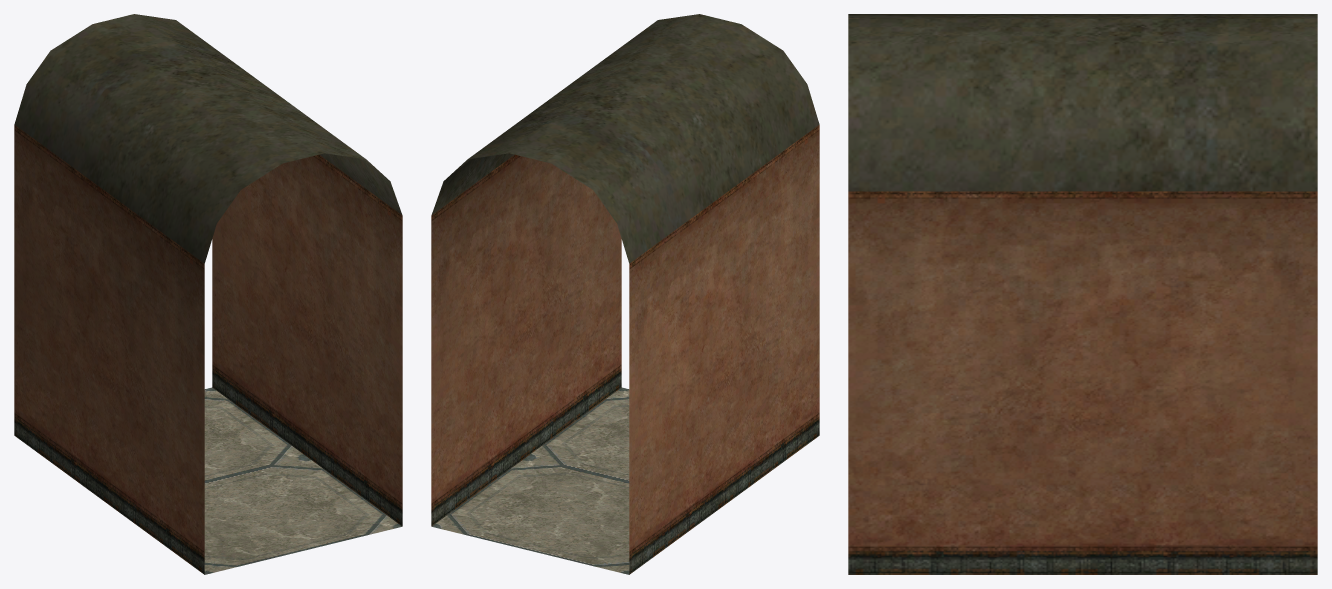
File: mun_corl_hotel_s01_r1_mesh_foyer1.fbx
3 views of the same model, side by side, from view 1: azimuth 30°, elevation 25°; view 2: azimuth 150°, elevation 25°; view 3: azimuth 270°, elevation 25° (orthographic). The views are drawn at different scales.
Parts seen in each view (by area): view 1: mesh_node; view 2: mesh_node; view 3: mesh_node.
Boxes of the visible parts, x1,y1,x2,y2 form: mesh_node: (14,14,402,574); mesh_node: (431,14,819,574); mesh_node: (848,14,1317,574).
Bounding box in the file's own units: 1.63 × 3.1 × 2.72.
